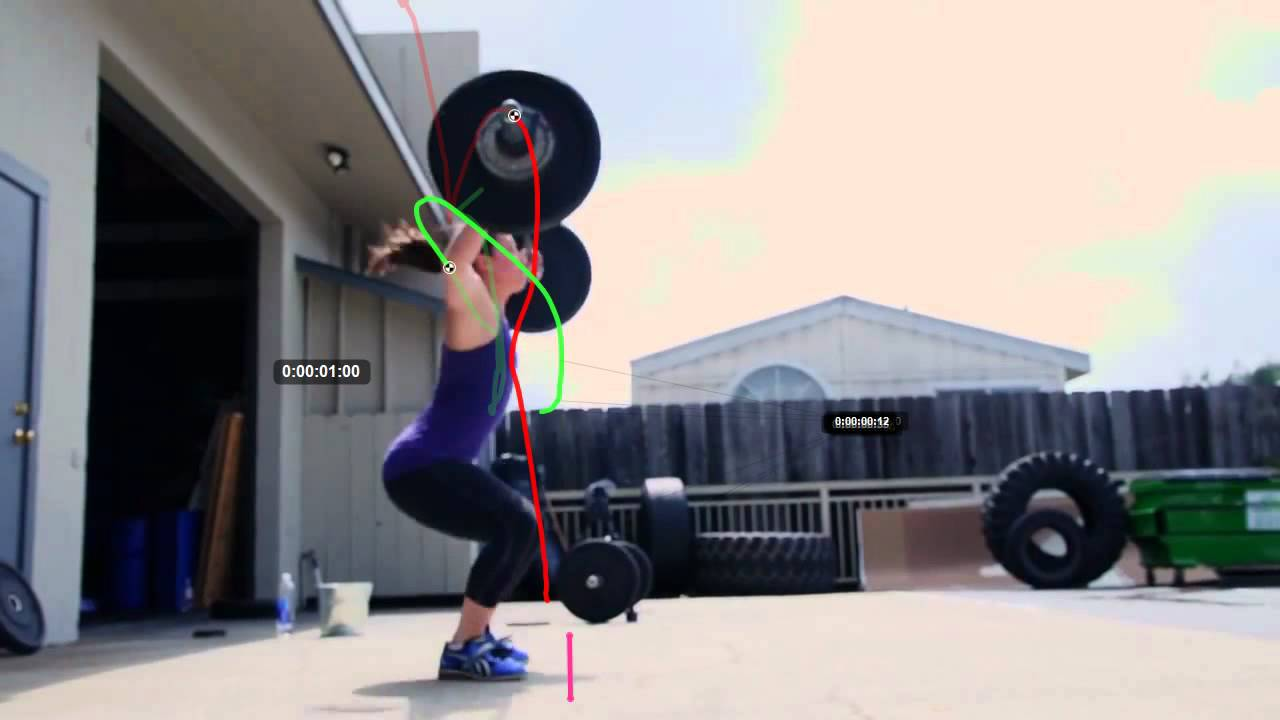barbell: (407, 65, 613, 234), (554, 536, 647, 631)
